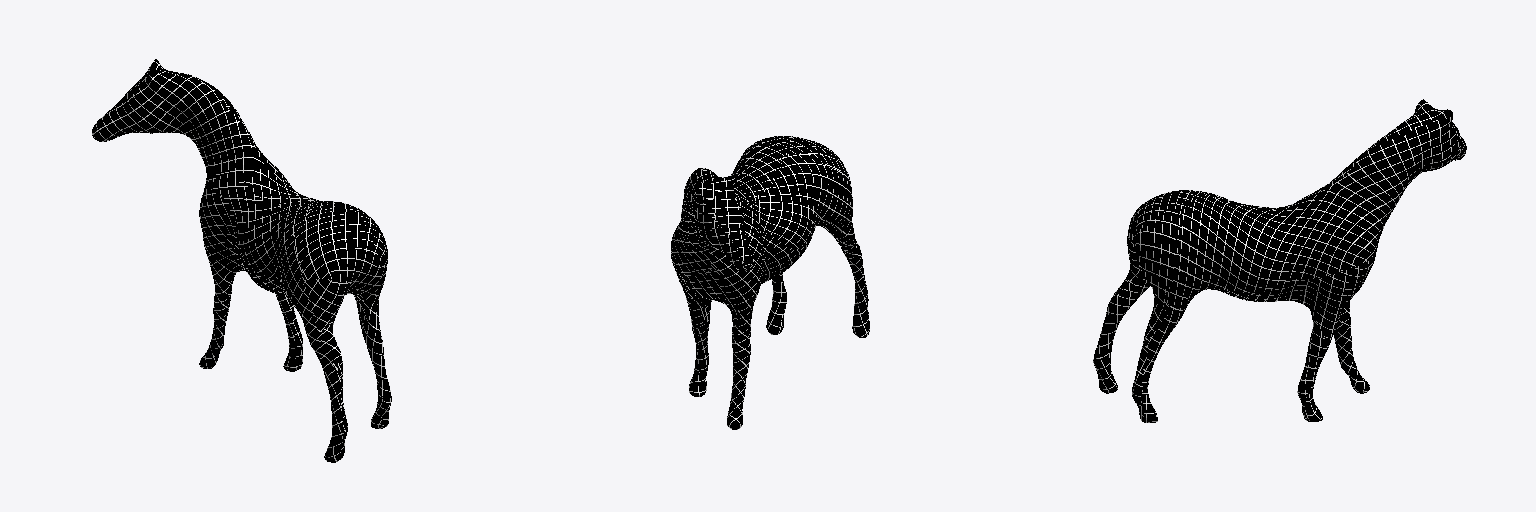
The picture shows the model from 3 angles: view 1: azimuth 30°, elevation 25°; view 2: azimuth 150°, elevation 25°; view 3: azimuth 270°, elevation 25°; orthographic projection.
Bounding box in the file's own units: 0.0827 × 0.1503 × 0.1809.
1 materials, 1 textured.